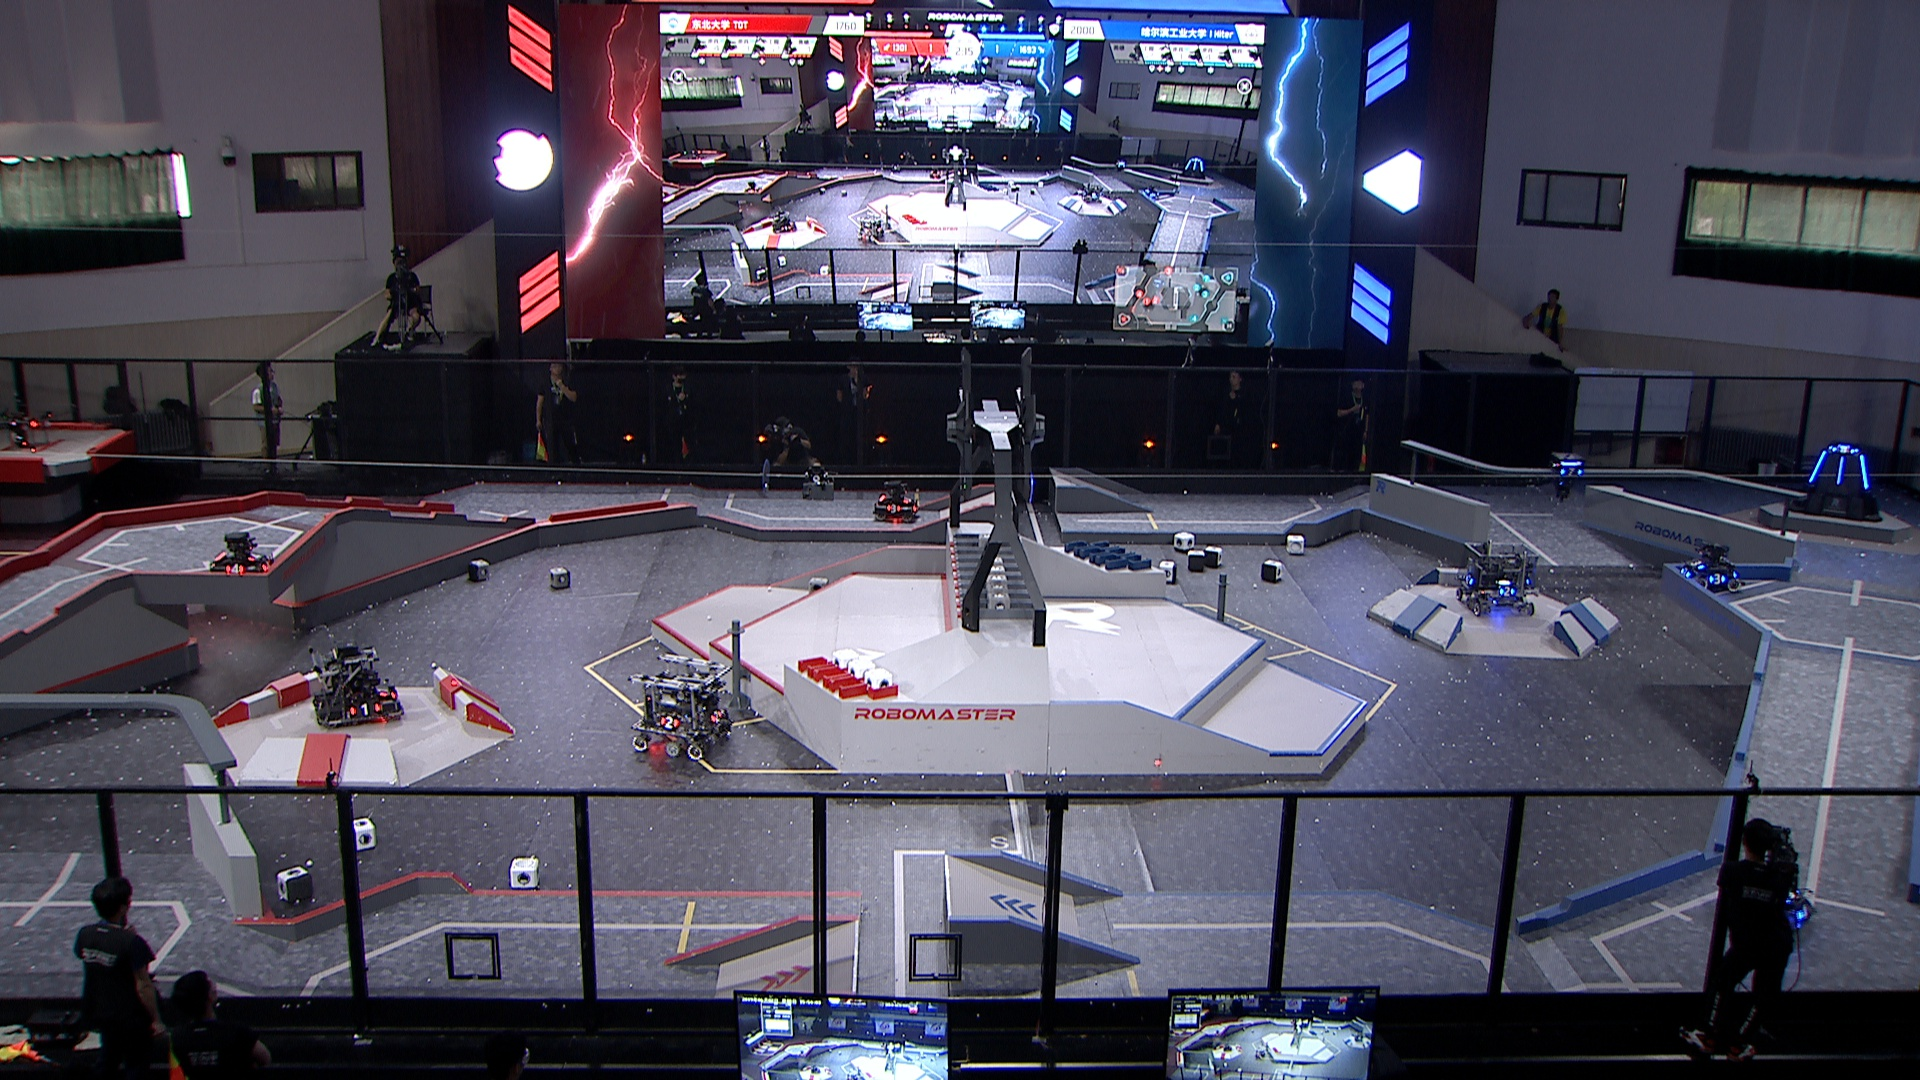armor: (1803, 448, 1830, 485), (1833, 451, 1849, 487), (344, 703, 381, 717), (1858, 452, 1871, 491), (655, 713, 678, 732), (222, 560, 247, 576), (375, 680, 394, 699), (1557, 465, 1582, 480), (884, 500, 903, 517), (1793, 902, 1811, 922), (1676, 560, 1693, 579), (1832, 444, 1858, 456), (707, 708, 724, 725), (1685, 556, 1706, 570), (257, 555, 272, 574), (1498, 583, 1516, 597), (243, 549, 262, 562), (1462, 571, 1477, 588), (1708, 571, 1726, 584), (899, 493, 916, 506)
base: (1785, 438, 1884, 527)
car: (626, 651, 737, 764), (309, 641, 406, 732), (1455, 534, 1539, 616), (1727, 861, 1815, 935), (1669, 541, 1746, 595), (204, 527, 278, 580), (866, 473, 922, 526)
ignore: (855, 214, 885, 244), (769, 207, 799, 237), (1182, 154, 1207, 182), (1077, 179, 1105, 202), (741, 177, 761, 196), (1143, 182, 1162, 202), (1116, 157, 1129, 171)
watcher: (1549, 450, 1590, 498)
